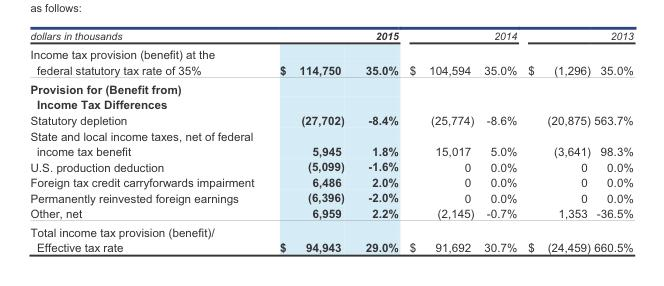table: (29, 28, 632, 255)
table column: (29, 28, 266, 255), (266, 28, 354, 255), (403, 28, 478, 255), (521, 28, 591, 255), (354, 28, 403, 255), (478, 28, 521, 255), (591, 28, 632, 255)
table column header: (29, 28, 632, 44)
table projected row header: (29, 44, 632, 61), (29, 79, 632, 96), (29, 222, 632, 239), (29, 96, 632, 112), (29, 128, 632, 143)
table row: (29, 61, 632, 79), (29, 44, 632, 61), (29, 79, 632, 96), (29, 205, 632, 222), (29, 222, 632, 239), (29, 28, 632, 44), (29, 96, 632, 112), (29, 112, 632, 128), (29, 158, 632, 174), (29, 189, 632, 205), (29, 239, 632, 255), (29, 128, 632, 143), (29, 143, 632, 158), (29, 174, 632, 189)
